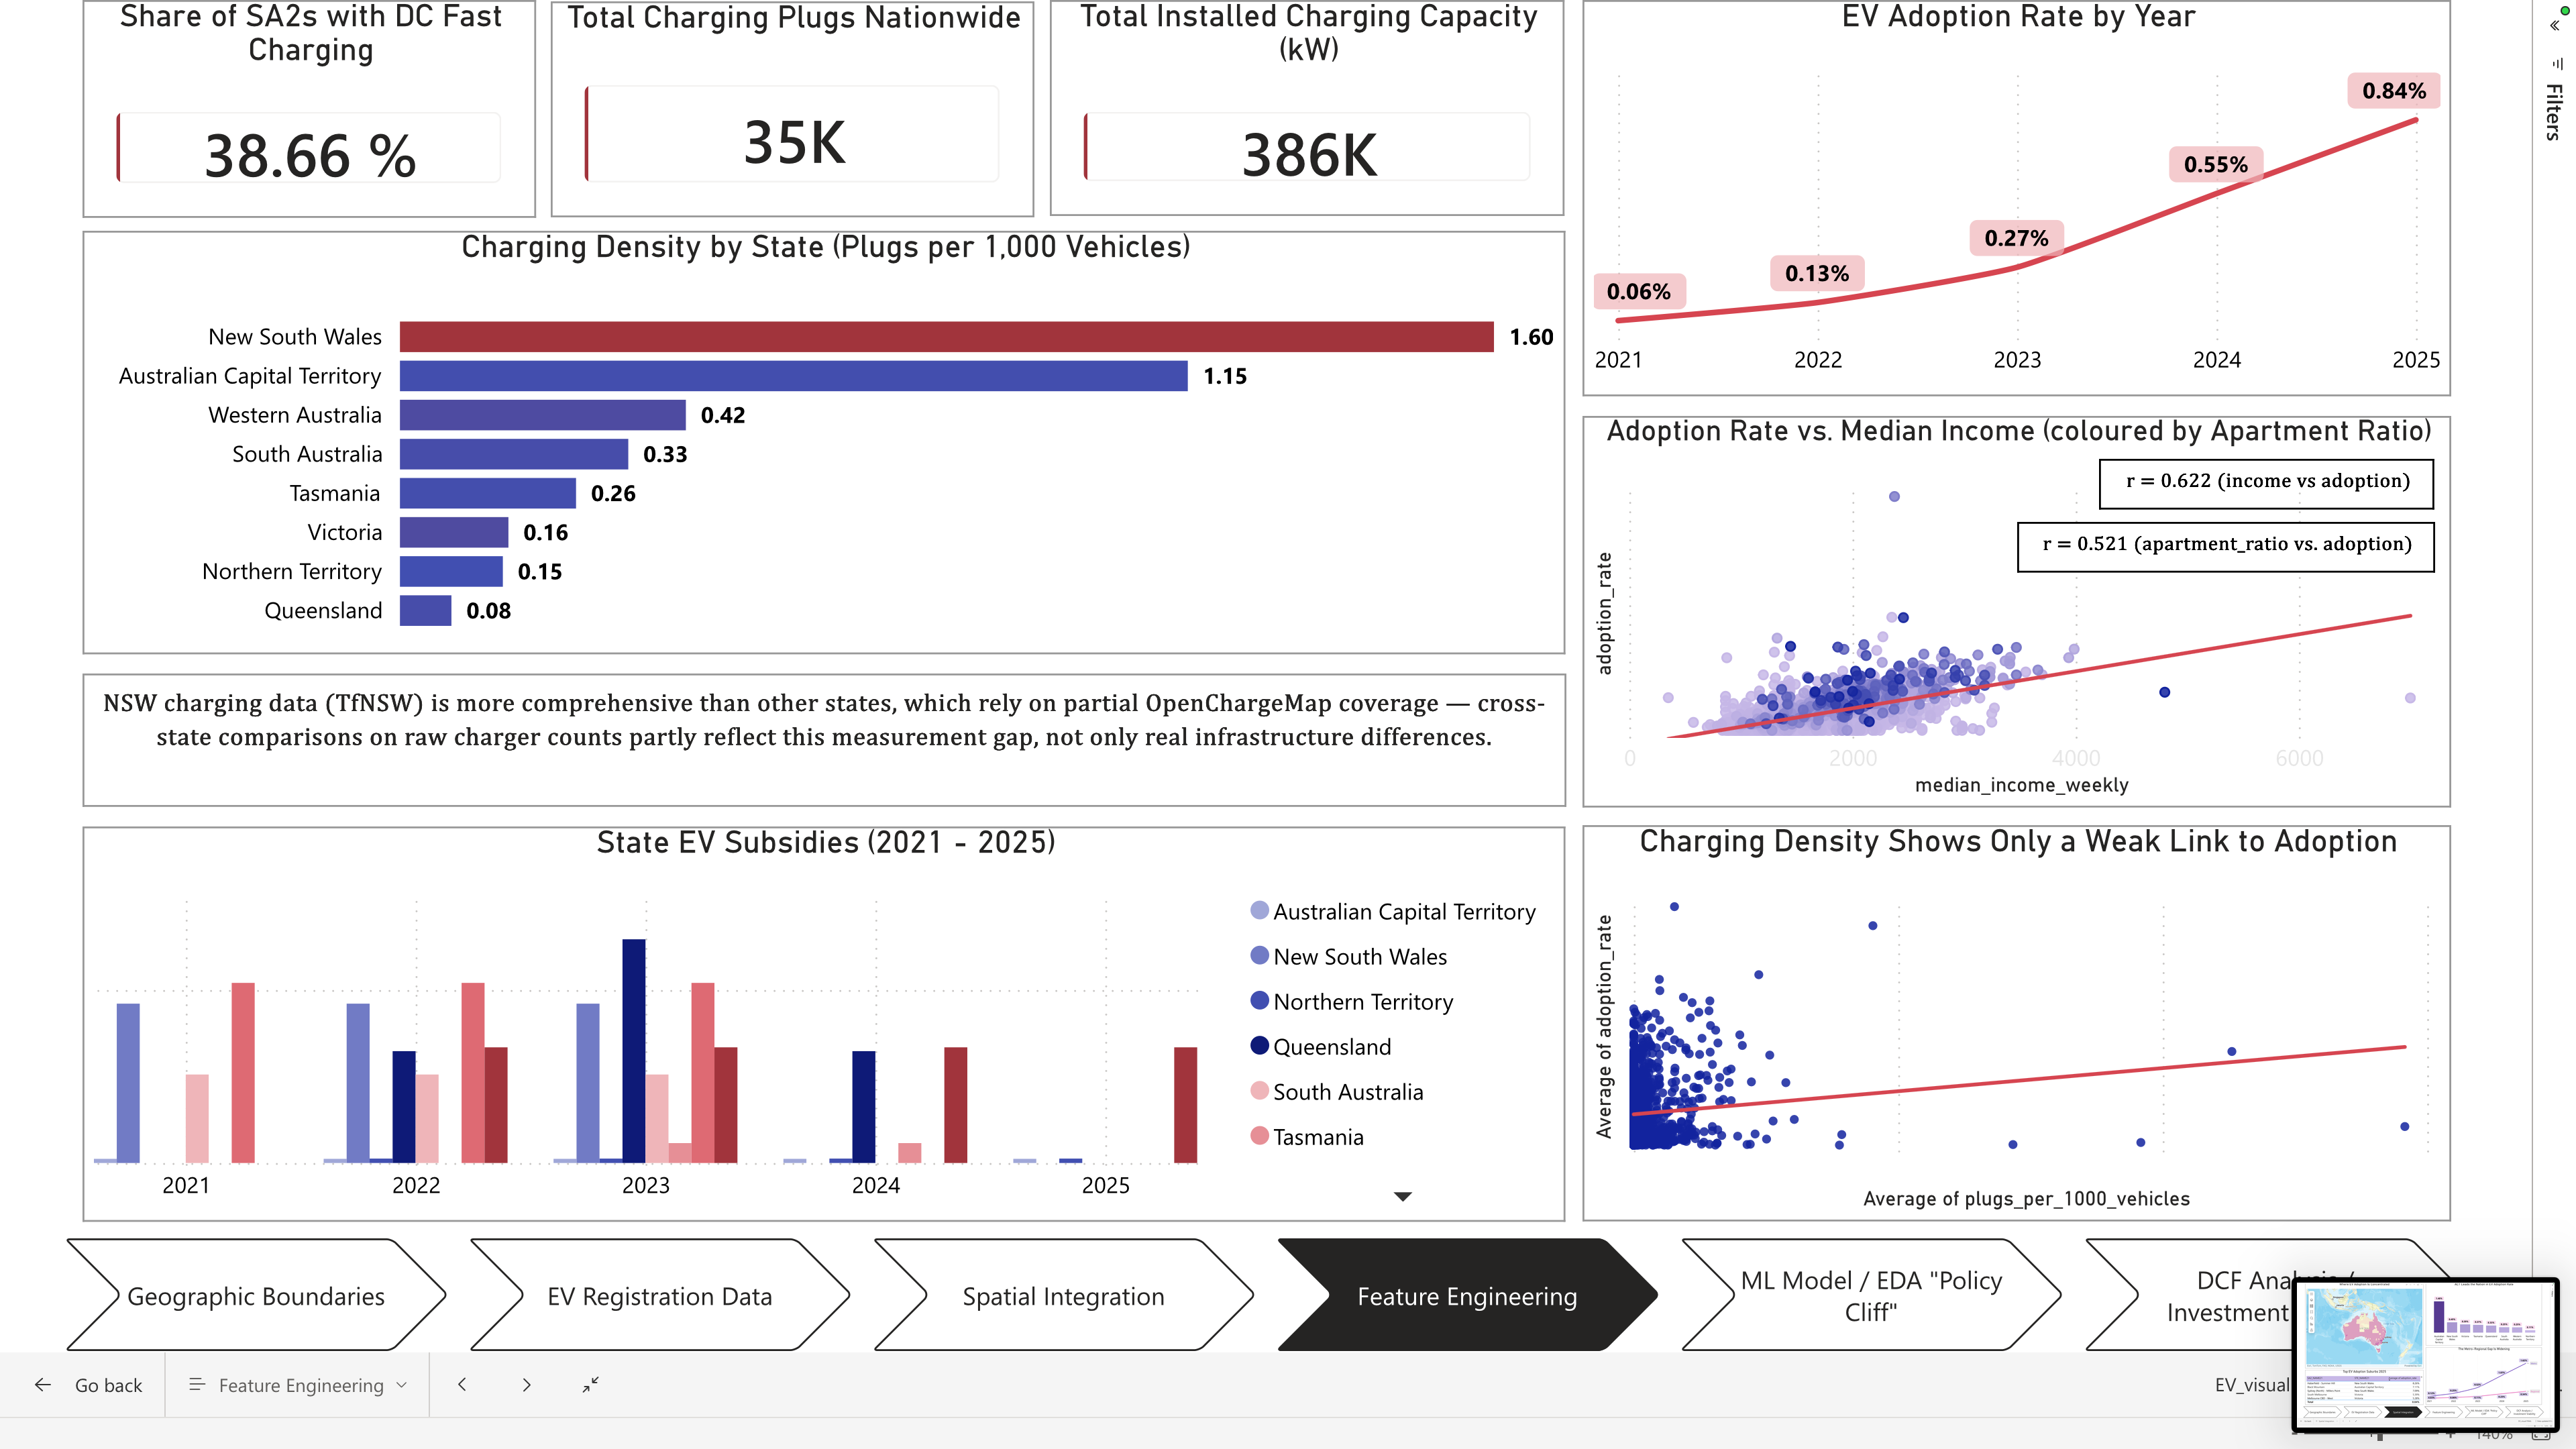

The dashboard page shown, as its layout file describes it:
{"tool":"powerbi","page":{"name":"Feature Engineering","canvas":[1280,720],"ordinal":3},"visuals":[{"type":"clusteredColumnChart","title":"State EV Subsidies (2021 - 2025)","fields":{"Category":["ev_master_charging.year"],"Series":["ev_master_charging.STE_NAME21"],"Y":["Sum(ev_master_charging.incentive_aud)"]},"box":[9.9,439.9,789.4,210.5],"z":0},{"type":"scatterChart","title":"Adoption Rate vs. Median Income (coloured by Apartment Ratio)","fields":{"Series":["ev_master_charging.apartment_ratio"],"X":["ev_master_charging.median_income_weekly"],"Y":["ev_master_charging.adoption_rate"]},"box":[808.2,221.4,462.7,208.5],"z":1000},{"type":"clusteredBarChart","title":"Charging Density by State (Plugs per 1,000 Vehicles)","fields":{"Category":["ev_master_charging.STE_NAME21"],"Y":["Avg(ev_master_charging.plugs_per_1000_vehicles)"]},"box":[9.9,123.1,789.4,225.4],"z":2000},{"type":"scatterChart","title":"Charging Density Shows Only a Weak Link to Adoption","fields":{"Category":["ev_master_charging.SA2_CODE21"],"X":["Avg(ev_master_charging.plugs_per_1000_vehicles)"],"Y":["Avg(ev_master_charging.adoption_rate)"]},"box":[808.5,439.5,462.7,211],"z":3000},{"type":"cardVisual","title":"Share of SA2s with DC Fast Charging","fields":{"Data":["ev_master_charging.SA2 with DC Charger"]},"box":[9.7,0,241.6,116],"z":4000},{"type":"cardVisual","title":"Total Charging Plugs Nationwide","fields":{"Data":["Sum(ev_master_charging.total_plugs)"]},"box":[259.2,0.9,257.4,115.1],"z":5000},{"type":"cardVisual","title":"Total Installed Charging Capacity (kW)","fields":{"Data":["Sum(ev_master_charging.max_power_kw)"]},"box":[525.4,0,274.1,115.1],"z":6000},{"type":"lineChart","title":"EV Adoption Rate by Year","fields":{"Category":["ev_master_charging.year"],"Y":["Avg(ev_master_charging.adoption_rate)"]},"box":[808.5,0,462.7,211],"z":7000},{"type":"pageNavigator","box":[0,659.4,1280,60.6],"z":8000},{"type":"textbox","box":[9.7,358.4,789.8,71.2],"z":9000},{"type":"textbox","box":[1083.4,244.3,178.7,26.8],"z":10000},{"type":"textbox","box":[1039.7,278,222.4,26.8],"z":11000}]}

Visuals, with their boxes on the page's 1280x720 design canvas (x1, y1, x2, y2). These are canvas units, not pixel positions in the 2576x1449 screenshot, which may show the page scaled, cropped or inside an application window:
"State EV Subsidies (2021 - 2025)" clusteredColumnChart: left=10, top=440, right=799, bottom=650
"Adoption Rate vs. Median Income (coloured by Apartment Ratio)" scatterChart: left=808, top=221, right=1271, bottom=430
"Charging Density by State (Plugs per 1,000 Vehicles)" clusteredBarChart: left=10, top=123, right=799, bottom=348
"Charging Density Shows Only a Weak Link to Adoption" scatterChart: left=808, top=440, right=1271, bottom=650
"Share of SA2s with DC Fast Charging" cardVisual: left=10, top=0, right=251, bottom=116
"Total Charging Plugs Nationwide" cardVisual: left=259, top=1, right=517, bottom=116
"Total Installed Charging Capacity (kW)" cardVisual: left=525, top=0, right=800, bottom=115
"EV Adoption Rate by Year" lineChart: left=808, top=0, right=1271, bottom=211
pageNavigator: left=0, top=659, right=1280, bottom=720
textbox: left=10, top=358, right=800, bottom=430
textbox: left=1083, top=244, right=1262, bottom=271
textbox: left=1040, top=278, right=1262, bottom=305
